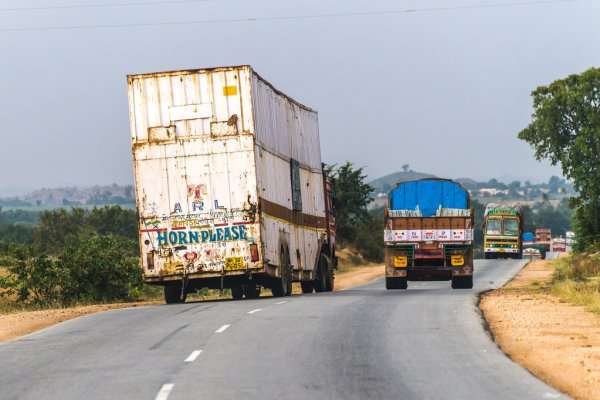truck: (128, 73, 336, 293), (386, 180, 474, 290), (482, 204, 524, 261), (535, 229, 551, 251), (553, 238, 565, 252)
